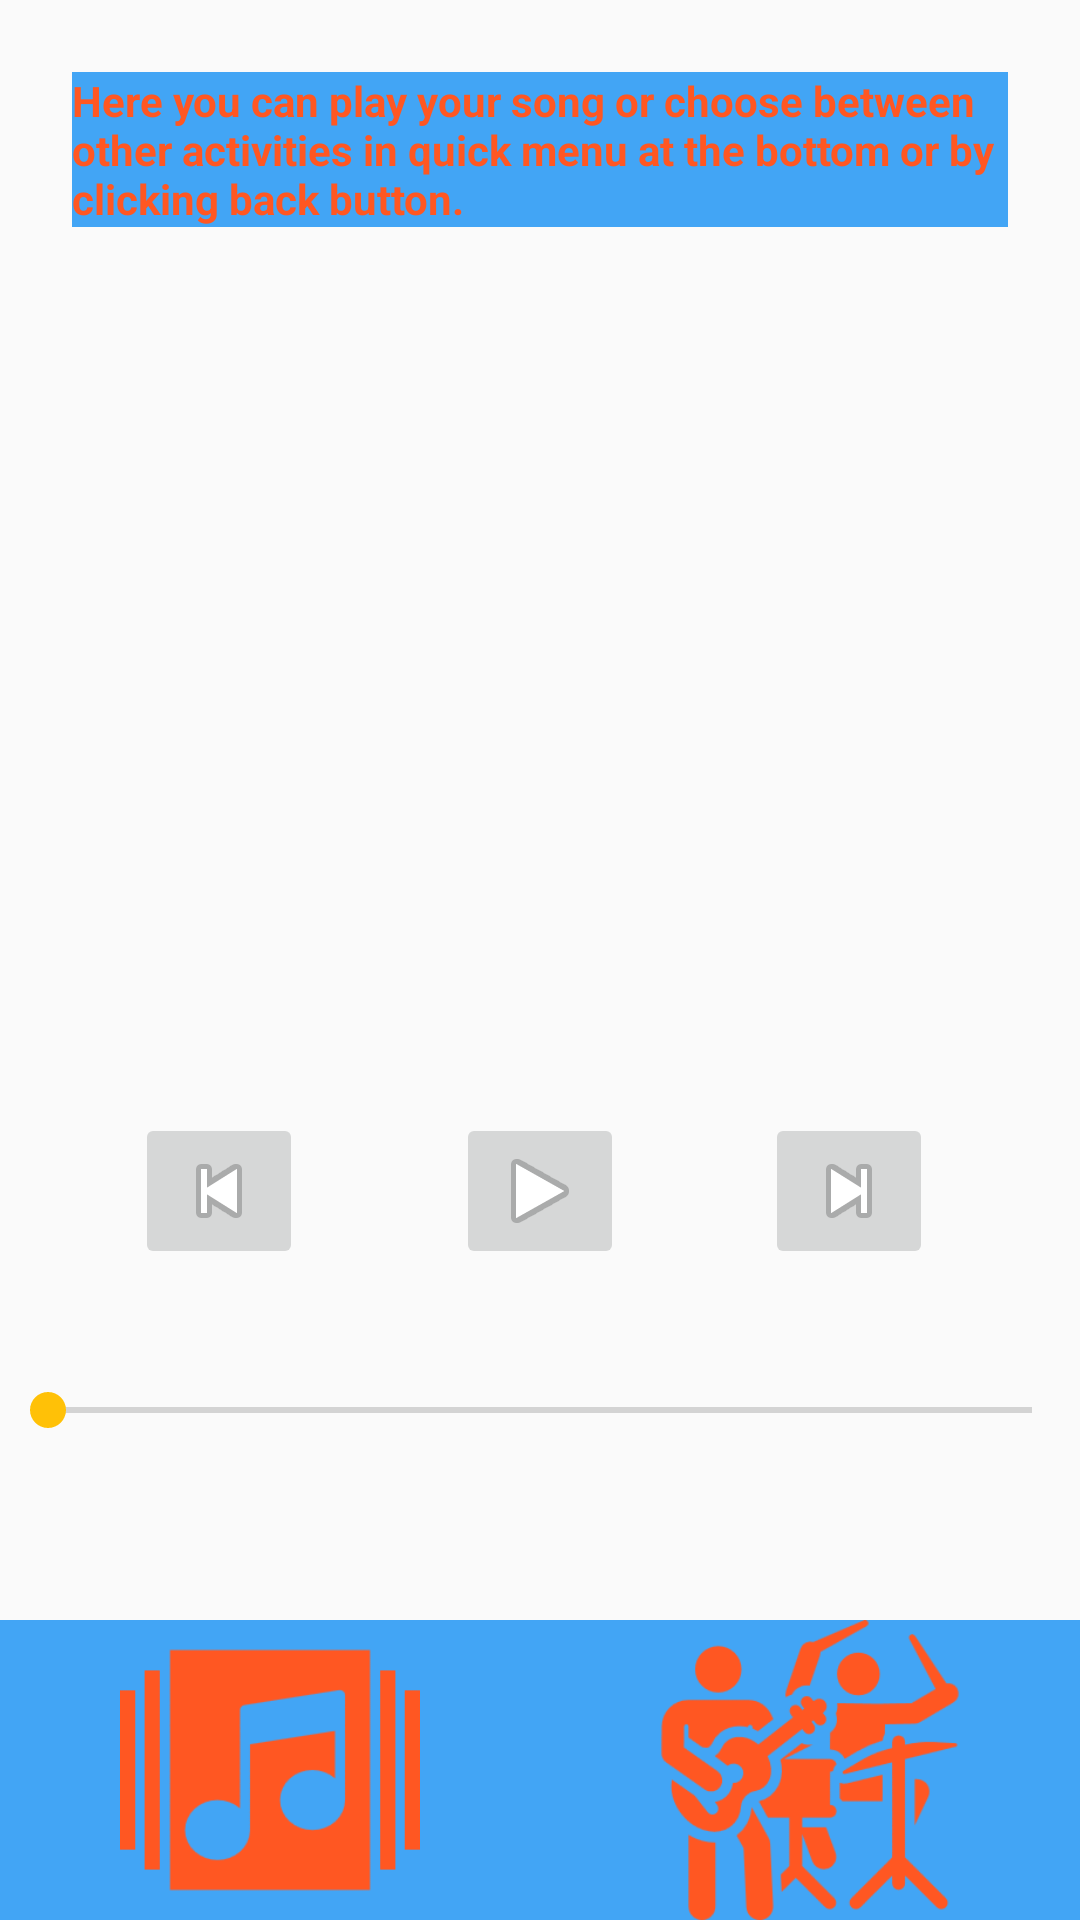

Locate icon controls on the screen. Image size 1080x1920, boxes as {"x1": x1, "y1": y1, "x2": x2, "y2": y2}.
artist: {"x1": 661, "y1": 1634, "x2": 959, "y2": 1920}
next: {"x1": 777, "y1": 1131, "x2": 921, "y2": 1251}
play: {"x1": 468, "y1": 1131, "x2": 612, "y2": 1251}
previous: {"x1": 147, "y1": 1131, "x2": 291, "y2": 1251}
songs: {"x1": 120, "y1": 1649, "x2": 420, "y2": 1891}
